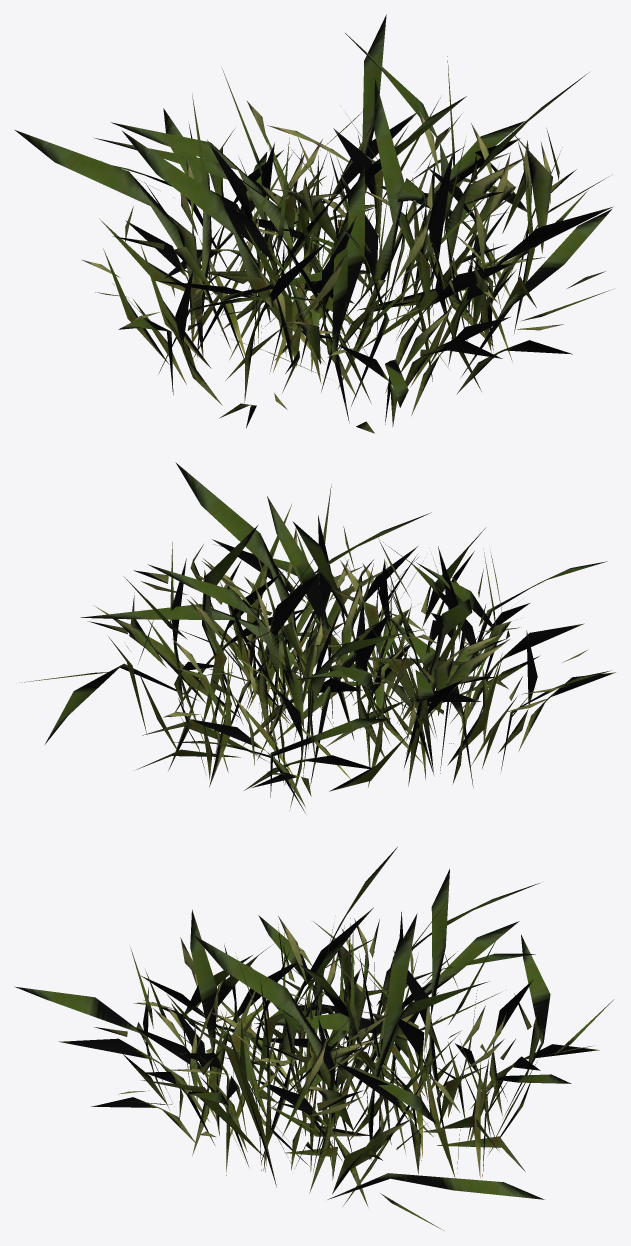
The model's file is SM_Grass_01.gltf.
3 renders of one model, top to bottom at view 1: azimuth 30°, elevation 25°; view 2: azimuth 150°, elevation 25°; view 3: azimuth 270°, elevation 25°, orthographic. The views are drawn at different scales.
Visible parts, largest first — view 1: SM_Grass_01; view 2: SM_Grass_01; view 3: SM_Grass_01.
Part boxes in pixels (left/top/right/bottom): SM_Grass_01: left=15, top=14, right=613, bottom=433; SM_Grass_01: left=19, top=462, right=615, bottom=813; SM_Grass_01: left=14, top=847, right=613, bottom=1230.
Bounding box in the file's own units: 0.3182 × 0.1453 × 0.3266.
1 material, 1 textured.
